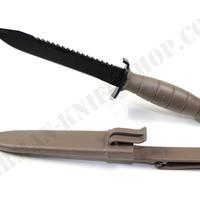knife: (3, 26, 200, 120)
